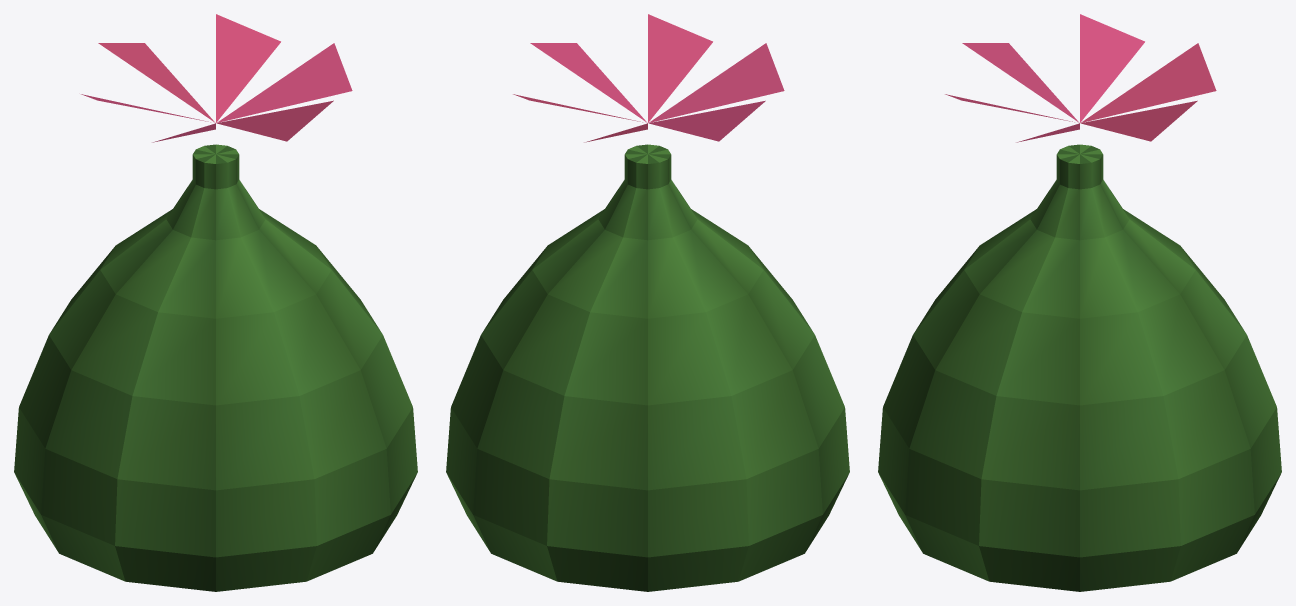
Rendered from cactus_barrel_flower.glb.
3 renders of one model, left to right at view 1: azimuth 30°, elevation 25°; view 2: azimuth 150°, elevation 25°; view 3: azimuth 270°, elevation 25°, orthographic.
Parts seen in each view (by area): view 1: cactus_barrel_flower_solid; view 2: cactus_barrel_flower_solid; view 3: cactus_barrel_flower_solid.
Boxes of the visible parts, <box> form: cactus_barrel_flower_solid: <box>14,14,417,591</box>; cactus_barrel_flower_solid: <box>446,14,849,591</box>; cactus_barrel_flower_solid: <box>878,14,1281,591</box>.
Size of the model in its own units: 0.7096 by 0.86 by 0.7096.
